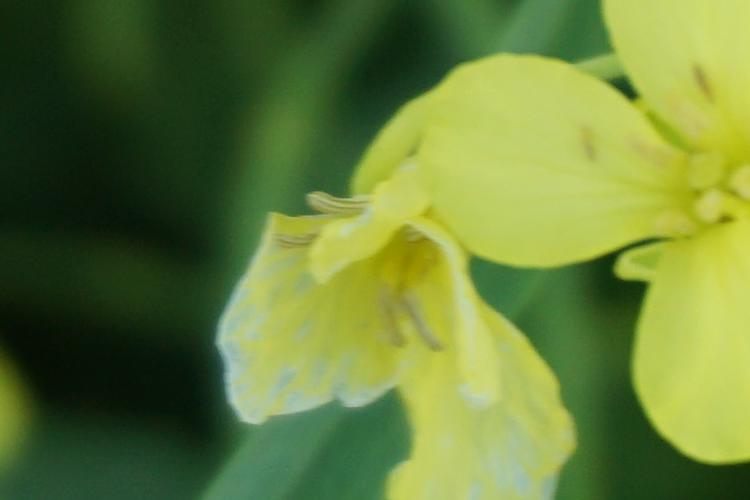yellow: (376, 5, 750, 472), (225, 49, 577, 500)
